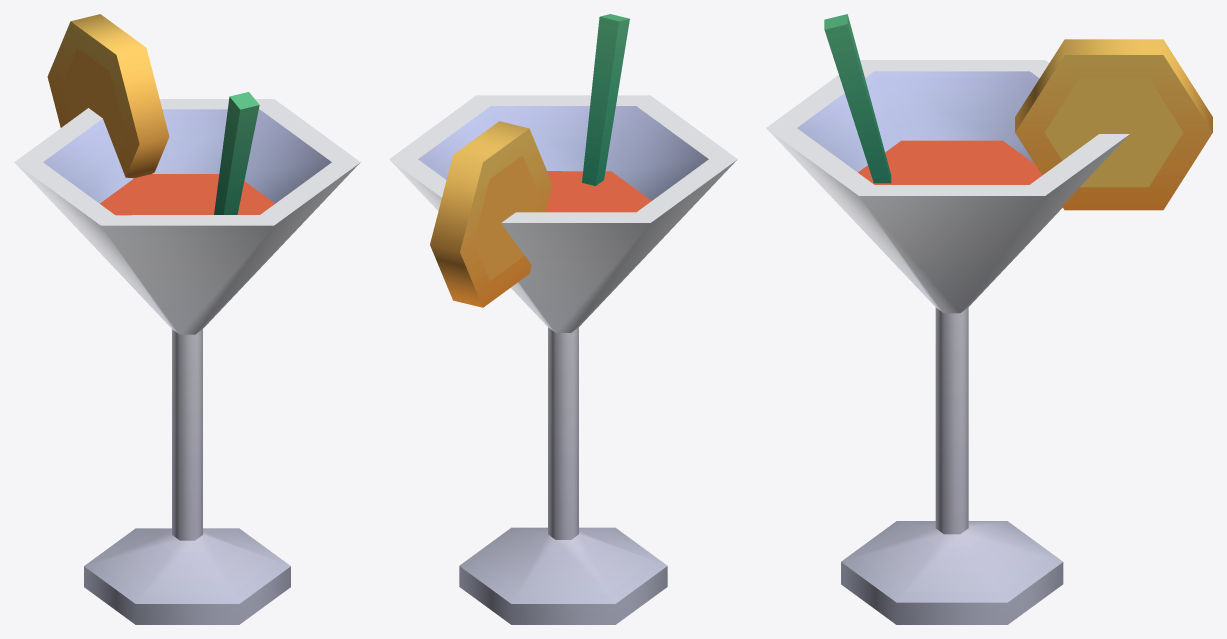
File: cocktail.glb
3 views of the same model, side by side, from view 1: azimuth 30°, elevation 25°; view 2: azimuth 150°, elevation 25°; view 3: azimuth 270°, elevation 25° (orthographic). The views are drawn at different scales.
Visible parts, largest first — view 1: cocktail; view 2: cocktail; view 3: cocktail.
Part boxes in pixels (bbox=[...]): cocktail: bbox=[14, 14, 360, 624]; cocktail: bbox=[389, 14, 737, 624]; cocktail: bbox=[766, 14, 1212, 624].
Bounding box in the file's own units: 0.2607 × 0.5059 × 0.3615.
Materials: 1 (1 with a texture image).
